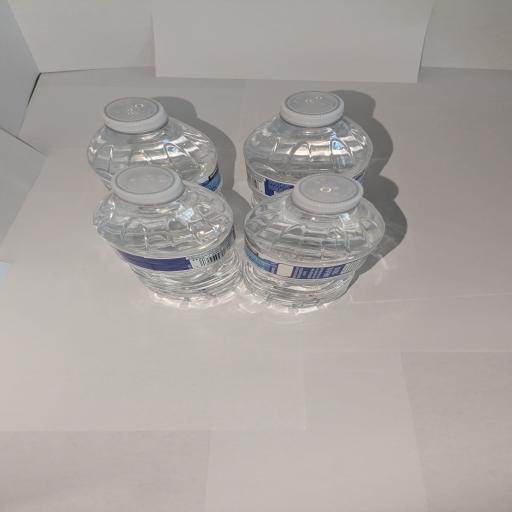waterbottle: (94, 166, 241, 300), (244, 175, 384, 307), (244, 92, 372, 205), (88, 98, 221, 191)
